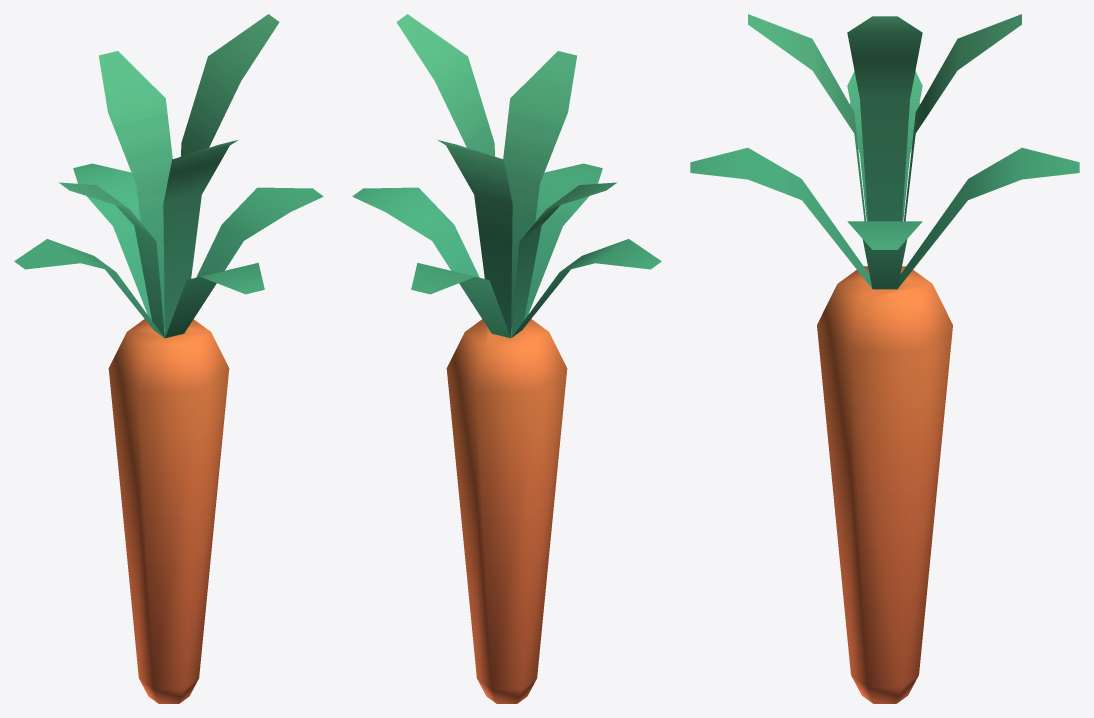
Rendered from carrot.glb.
3 views of the same model, side by side, from view 1: azimuth 30°, elevation 25°; view 2: azimuth 150°, elevation 25°; view 3: azimuth 270°, elevation 25° (orthographic). The views are drawn at different scales.
Parts seen in each view (by area): view 1: carrot; view 2: carrot; view 3: carrot.
Part boxes in pixels (x1,y1,x2,y2): carrot: (14,14,323,703); carrot: (352,14,661,703); carrot: (690,14,1079,703).
Size of the model in its own units: 0.3431 by 0.7163 by 0.3431.
Materials: 1 (1 with a texture image).
